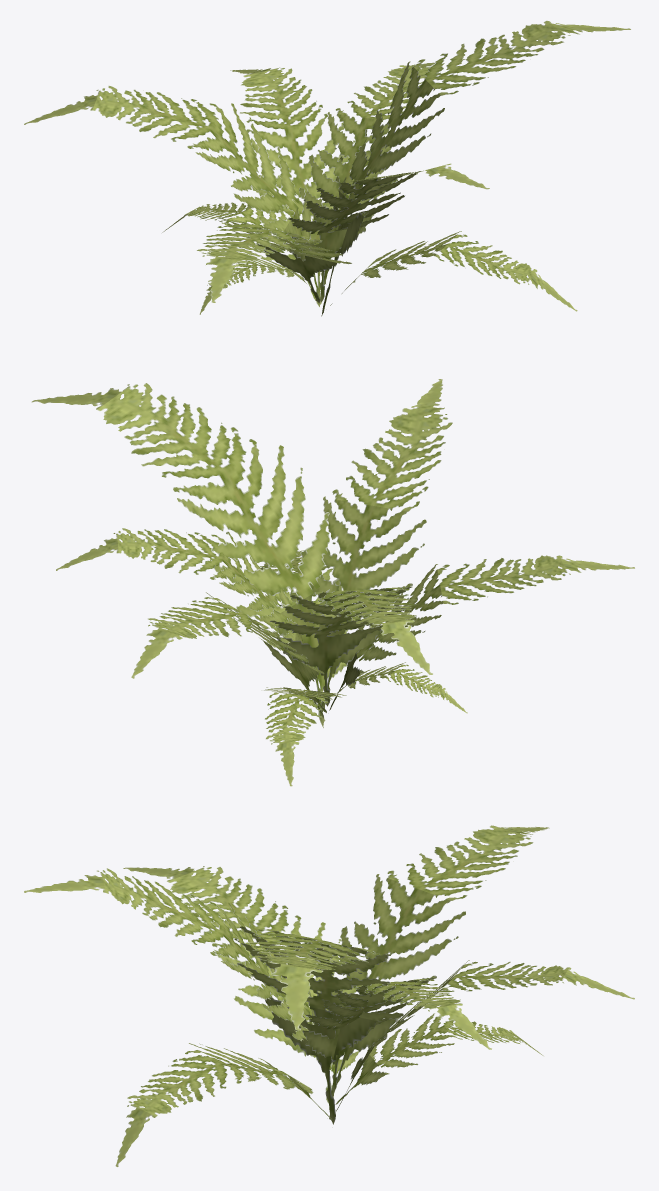
Rendered from Planter_001.fbx.
3 renders of one model, top to bottom at view 1: azimuth 30°, elevation 25°; view 2: azimuth 150°, elevation 25°; view 3: azimuth 270°, elevation 25°, orthographic. The views are drawn at different scales.
Visible parts, largest first — view 1: Planters_001; view 2: Planters_001; view 3: Planters_001.
Boxes of the visible parts, x1,y1,x2,y2 form: Planters_001: (24,20,630,316); Planters_001: (31,379,634,786); Planters_001: (24,825,634,1166).
Bounding box in the file's own units: 242 × 122 × 230.
